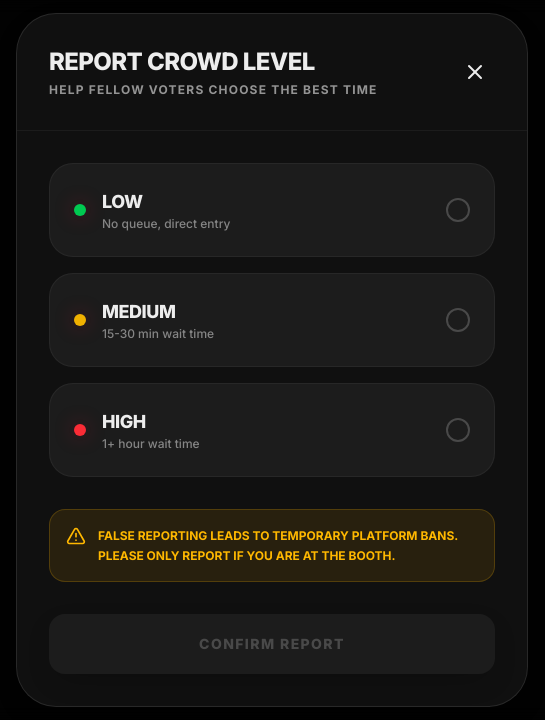
CrowdReportModal › should enable the submit button after selecting a level
Click the text "LOW". click: {"x": 122, "y": 202}
box: [102,191,143,212]
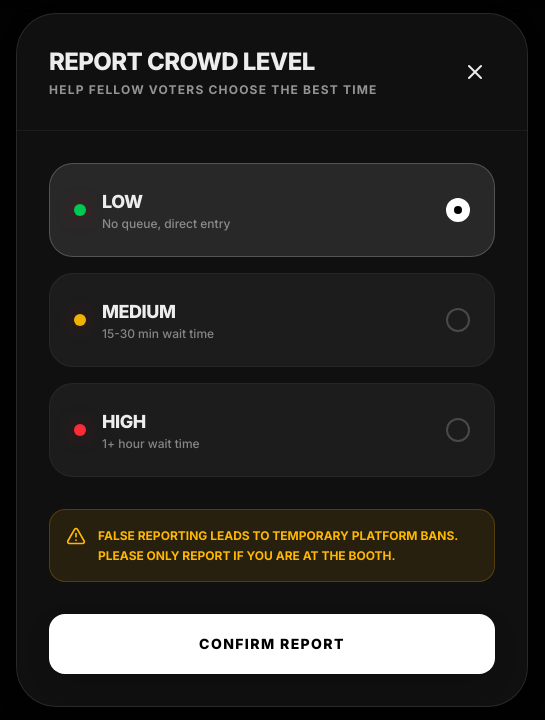
expect the button "CONFIRM REPORT" is enabled: met, box [49,614,495,674]
